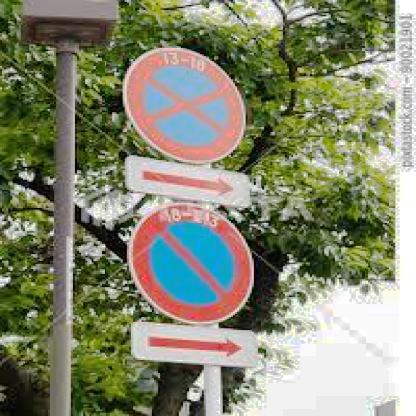No stopping: (125, 41, 253, 165)
